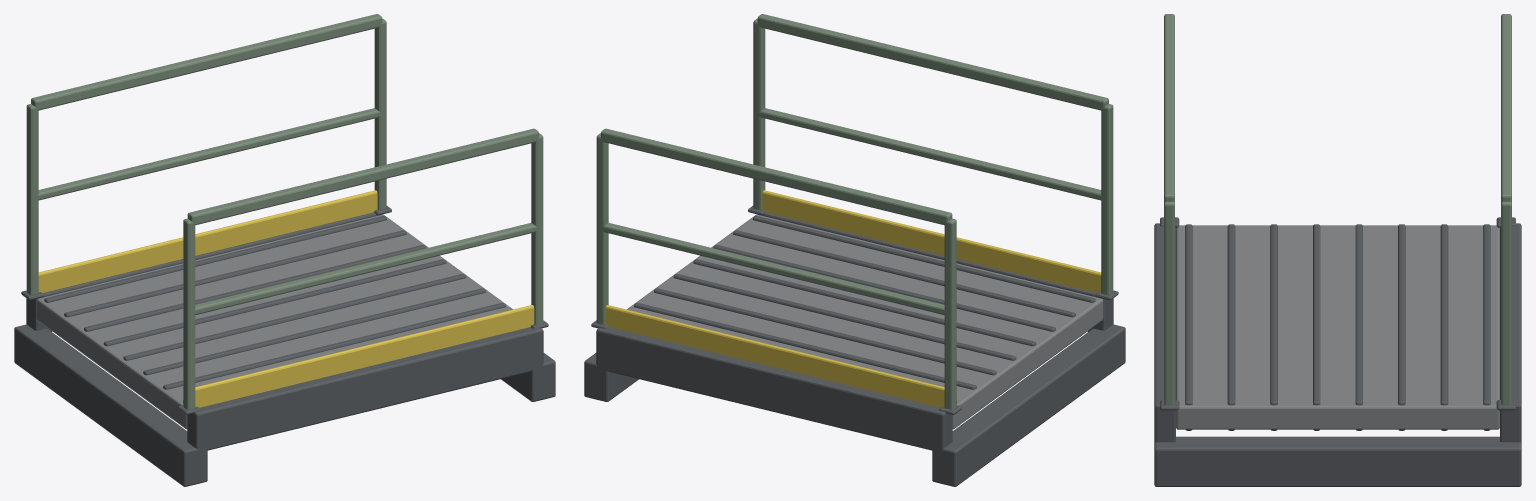
Rendered from catwalk_2.fbx.
The picture shows the model from 3 angles, left to right: view 1: azimuth 30°, elevation 25°; view 2: azimuth 150°, elevation 25°; view 3: azimuth 270°, elevation 25°; orthographic projection. The views are drawn at different scales.
Visible parts, largest first — view 1: catwalk_2; view 2: catwalk_2; view 3: catwalk_2.
Part boxes in pixels (<box>): catwalk_2: <box>14,14,555,486</box>; catwalk_2: <box>584,14,1125,486</box>; catwalk_2: <box>1154,14,1521,486</box>.
Size of the model in its own units: 2.14 by 1.46 by 1.7.
